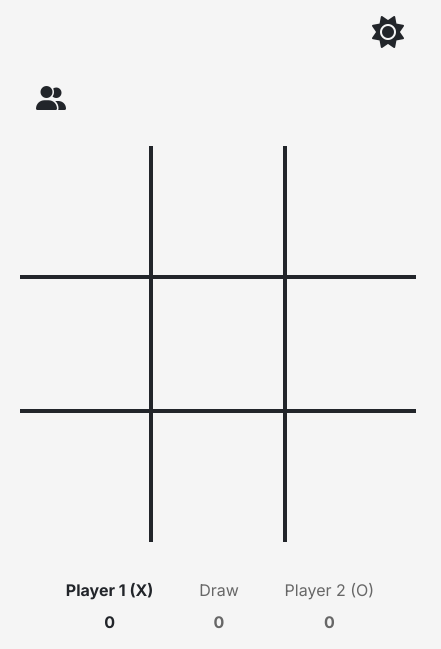
Test case: Game Flow › should complete a full game with win scenario
# Play a winning pattern
Click the 1st element with test id "board-square" at (87, 213), box [20,146,153,279]
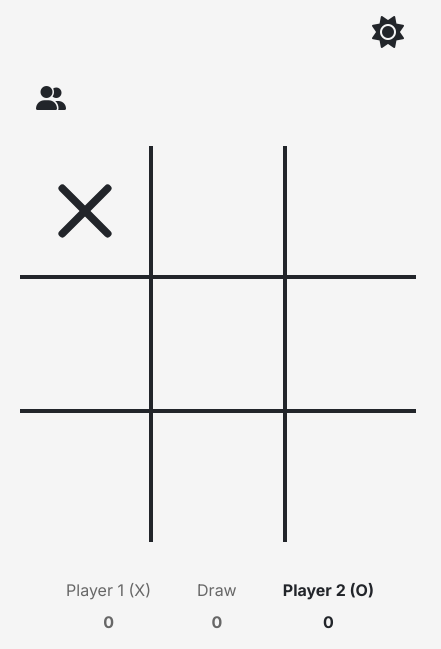
Click the 4th element with test id "board-square" at (87, 346), box [20,279,153,412]
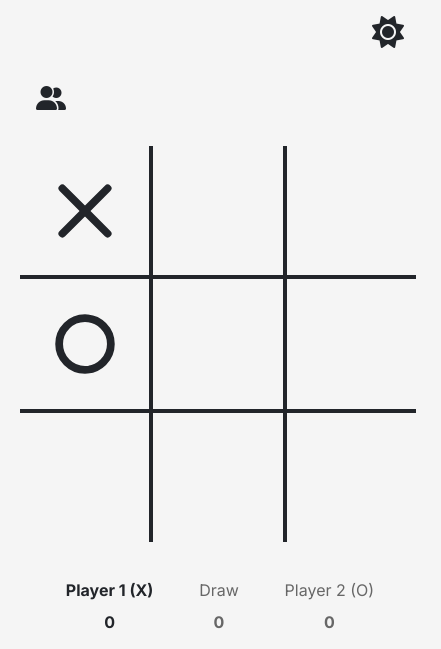
Click the 2nd element with test id "board-square" at (220, 213), box [153,146,286,279]
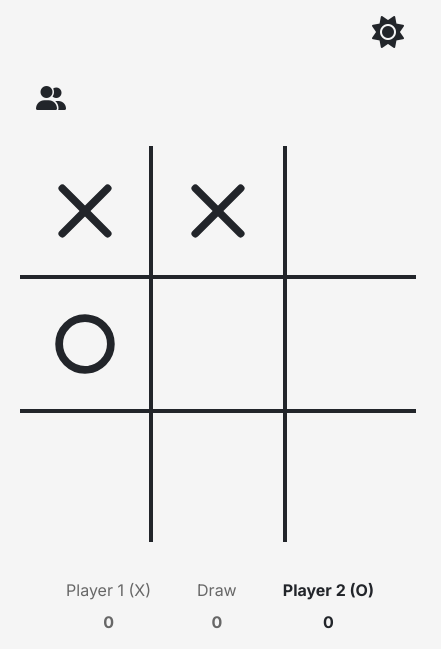
Click the 5th element with test id "board-square" at (220, 346), box [153,279,286,412]
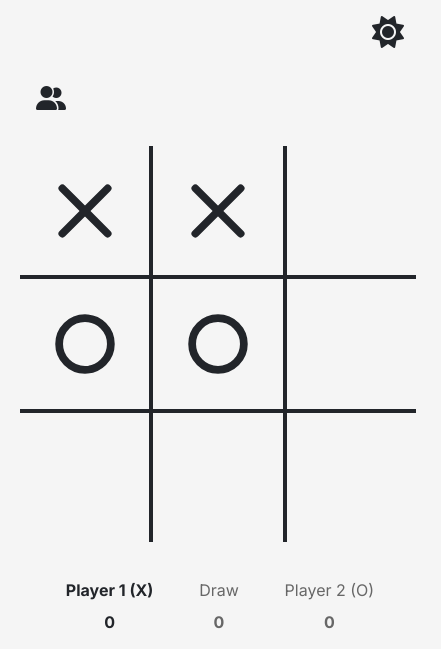
Click the 3rd element with test id "board-square" at (352, 213), box [287,146,416,279]
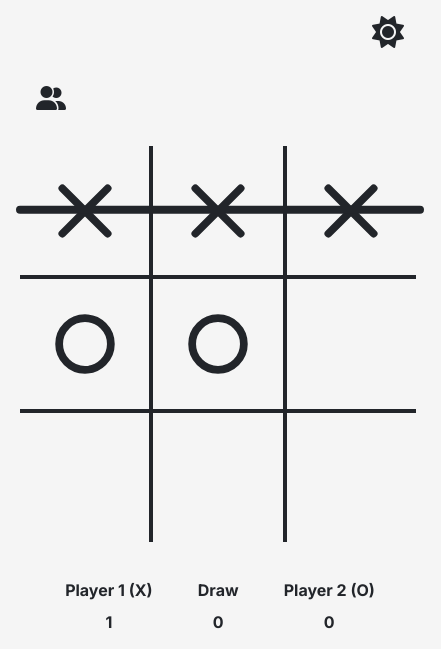
Expected: the icon with class "strike-through" is shown, [20,143,420,543]
Expected: the text with test id "player-1-score" reads "1", [105,612,112,632]
# Verify new game starts on next move
Click the 6th element with test id "board-square" at (352, 346), box [287,279,416,412]
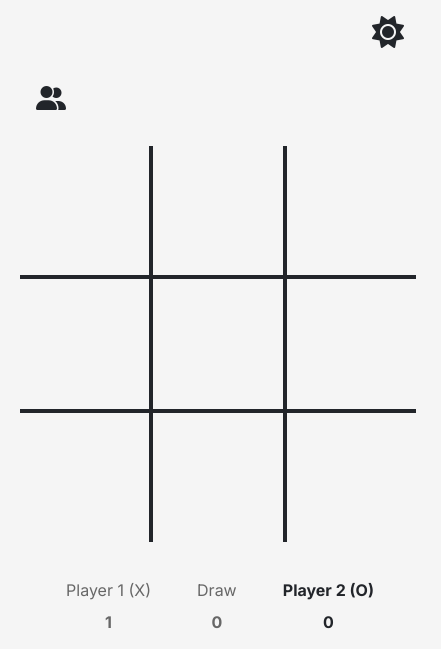
Expected: the icon with class "strike-through" is gone
